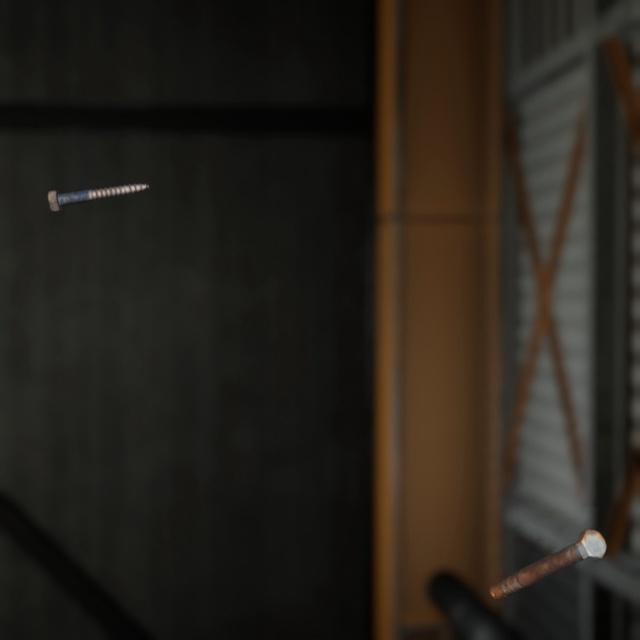bolt: (484, 501, 611, 582), (43, 164, 154, 202)
